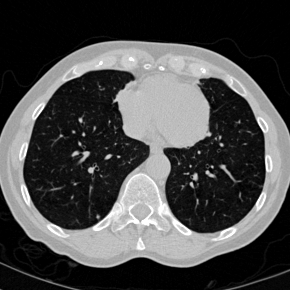nodule: (95, 215, 99, 219)
